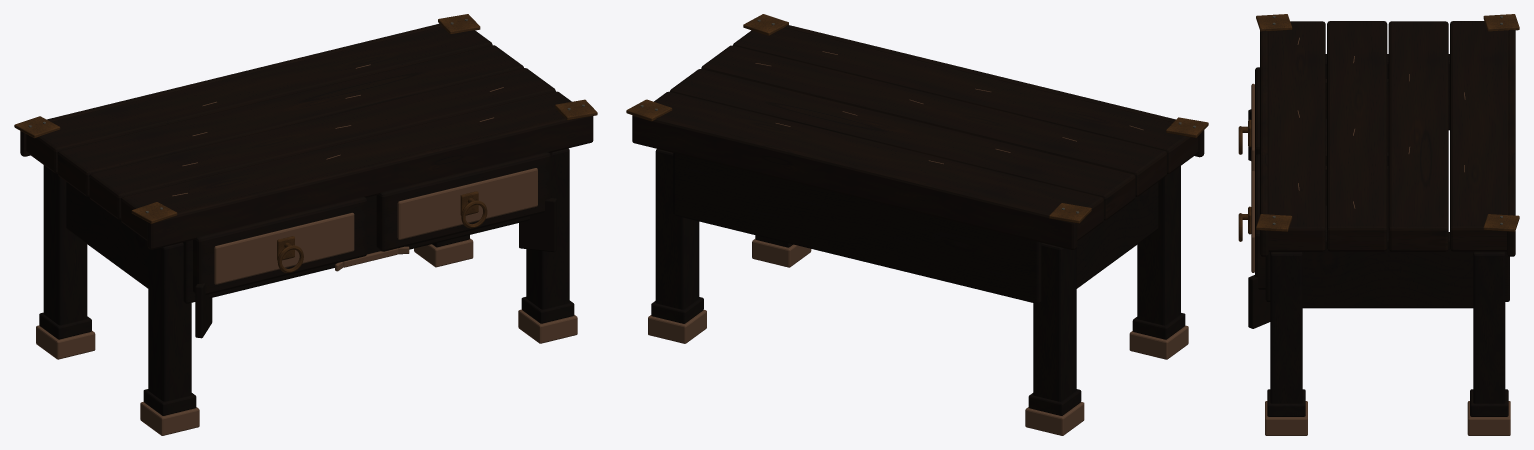
Rendered from typewriter-environment.glb.
The picture shows the model from 3 angles, left to right: view 1: azimuth 30°, elevation 25°; view 2: azimuth 150°, elevation 25°; view 3: azimuth 270°, elevation 25°; orthographic projection. The views are drawn at different scales.
Visible parts, largest first — view 1: DESK_TOP, DESK_TOP_EDGE_FRONT, DESK_LEG_LEFT_FRONT_POST, DESK_LEG_LEFT_REAR_POST, DRAWER_RIGHT_FRONT_INSET, DRAWER_LEFT_FRONT_INSET, DRAWER_RIGHT_FRONT, DRAWER_LEFT_FRONT, DESK_LEG_RIGHT_FRONT_POST, DESK_LEFT_RAIL, DESK_FRONT_RAIL, DESK_TOP_EDGE_REAR (+13 smaller); view 2: DESK_TOP, DESK_REAR_RAIL, DESK_TOP_EDGE_REAR, DESK_LEG_LEFT_REAR_POST, DESK_LEG_RIGHT_REAR_POST, DESK_LEG_LEFT_FRONT_POST, DESK_LEFT_RAIL, DESK_TOP_EDGE_FRONT, DESK_LEG_LEFT_FRONT_FOOT, DESK_LEG_LEFT_REAR_FOOT, DESK_LEG_RIGHT_REAR_FOOT, DESK_LEG_RIGHT_FRONT_FOOT (+7 smaller); view 3: DESK_TOP, DESK_RIGHT_RAIL, DESK_LEG_RIGHT_REAR_POST, DESK_LEG_RIGHT_FRONT_POST, DESK_TOP_EDGE_REAR, DESK_TOP_EDGE_FRONT, DESK_LEG_RIGHT_REAR_FOOT, DESK_CORNER_BRACKET_RIGHT, DESK_LEG_RIGHT_FRONT_FOOT, DRAWER_RIGHT_FRONT, DESK_LEG_RIGHT_FRONT_COLLAR, DESK_LEG_RIGHT_REAR_COLLAR (+8 smaller).
Part boxes in pixels (<box>): DESK_TOP: <box>26,26,571,240</box>; DESK_TOP_EDGE_FRONT: <box>147,116,593,249</box>; DESK_LEG_LEFT_FRONT_POST: <box>148,242,191,401</box>; DESK_LEG_LEFT_REAR_POST: <box>43,165,87,325</box>; DRAWER_RIGHT_FRONT_INSET: <box>397,168,537,239</box>; DRAWER_LEFT_FRONT_INSET: <box>214,212,354,284</box>; DRAWER_RIGHT_FRONT: <box>376,152,550,251</box>; DRAWER_LEFT_FRONT: <box>193,197,366,294</box>; DESK_LEG_RIGHT_FRONT_POST: <box>526,148,569,309</box>; DESK_LEFT_RAIL: <box>66,182,148,288</box>; DESK_FRONT_RAIL: <box>183,152,552,303</box>; DESK_TOP_EDGE_REAR: <box>20,23,441,156</box>; DESK_TOP: <box>654,27,1198,240</box>; DESK_REAR_RAIL: <box>673,153,1041,303</box>; DESK_TOP_EDGE_REAR: <box>632,115,1077,249</box>; DESK_LEG_LEFT_REAR_POST: <box>1033,243,1076,401</box>; DESK_LEG_RIGHT_REAR_POST: <box>655,149,699,309</box>; DESK_LEG_LEFT_FRONT_POST: <box>1137,166,1180,325</box>; DESK_LEFT_RAIL: <box>1076,182,1158,288</box>; DESK_TOP_EDGE_FRONT: <box>784,25,1204,157</box>; DESK_LEG_LEFT_FRONT_FOOT: <box>1129,325,1188,359</box>; DESK_LEG_LEFT_REAR_FOOT: <box>1025,402,1084,435</box>; DESK_LEG_RIGHT_REAR_FOOT: <box>648,310,706,343</box>; DESK_LEG_RIGHT_FRONT_FOOT: <box>752,239,811,267</box>; DESK_TOP: <box>1268,21,1507,251</box>; DESK_RIGHT_RAIL: <box>1302,232,1473,308</box>; DESK_LEG_RIGHT_REAR_POST: <box>1473,251,1505,403</box>; DESK_LEG_RIGHT_FRONT_POST: <box>1270,252,1302,403</box>; DESK_TOP_EDGE_REAR: <box>1507,29,1515,256</box>; DESK_TOP_EDGE_FRONT: <box>1260,30,1268,256</box>; DESK_LEG_RIGHT_REAR_FOOT: <box>1467,401,1510,435</box>; DESK_CORNER_BRACKET_RIGHT: <box>1248,275,1270,328</box>; DESK_LEG_RIGHT_FRONT_FOOT: <box>1265,401,1307,435</box>; DRAWER_RIGHT_FRONT: <box>1255,154,1265,289</box>; DESK_LEG_RIGHT_FRONT_COLLAR: <box>1267,389,1305,416</box>; DESK_LEG_RIGHT_REAR_COLLAR: <box>1470,389,1508,416</box>.
Size of the model in its own units: 1.66 by 0.7825 by 0.9189.
Materials: 6 (3 with a texture image).
